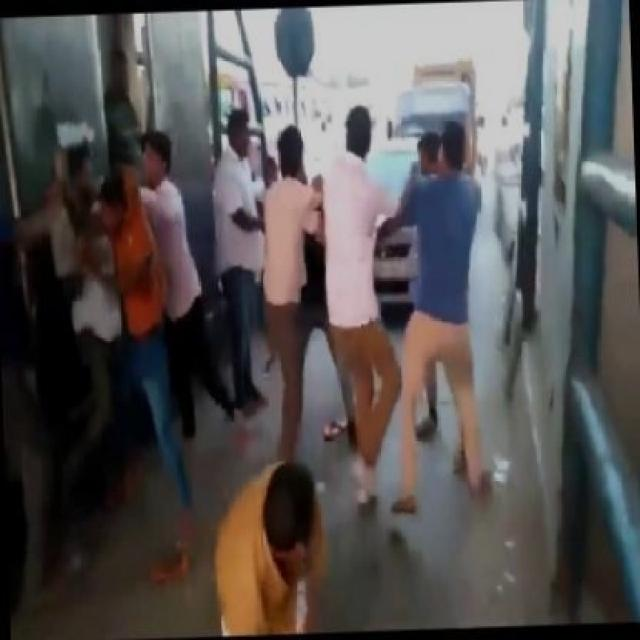fight: (32, 159, 202, 553)
